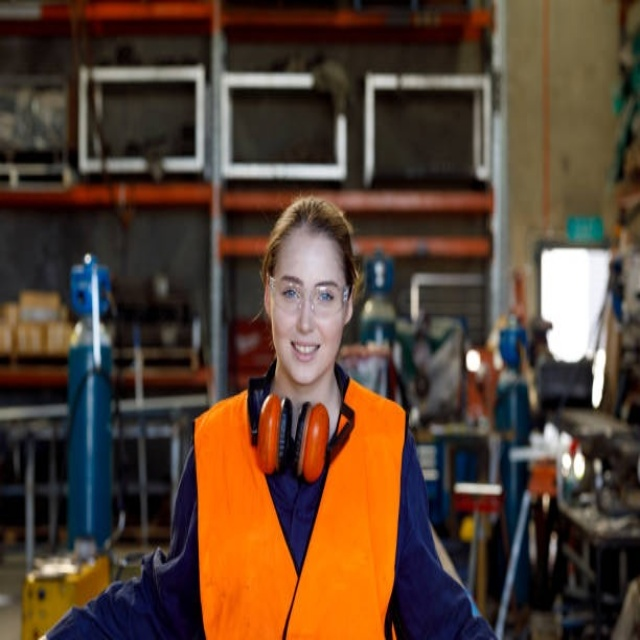Gafas: (270, 276, 352, 319)
Sin_mascara: (284, 333, 327, 376)
